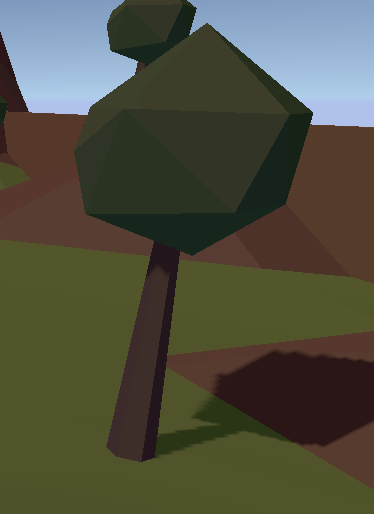tree: (59, 22, 321, 474)
